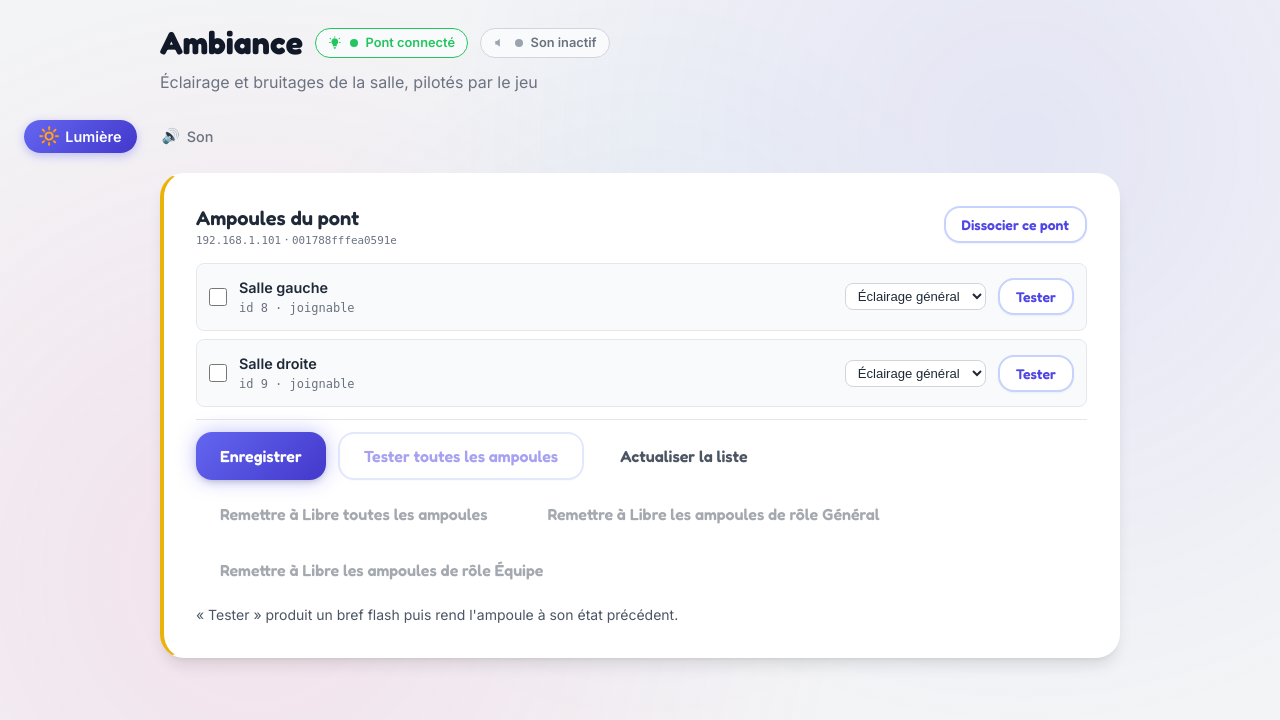
Scenario: AmbiancePage — P2b : allumage/extinction immédiat › pont injoignable : toast d'erreur affiché, mais la case reste basculée (§2.3 — la config ne dépend pas du pont)
Check: the text "Salle gauche" is shown, box [239, 279, 328, 296]
Click the checkbox labelled "Salle gauche". click: (218, 297)
box: [209, 288, 227, 306]
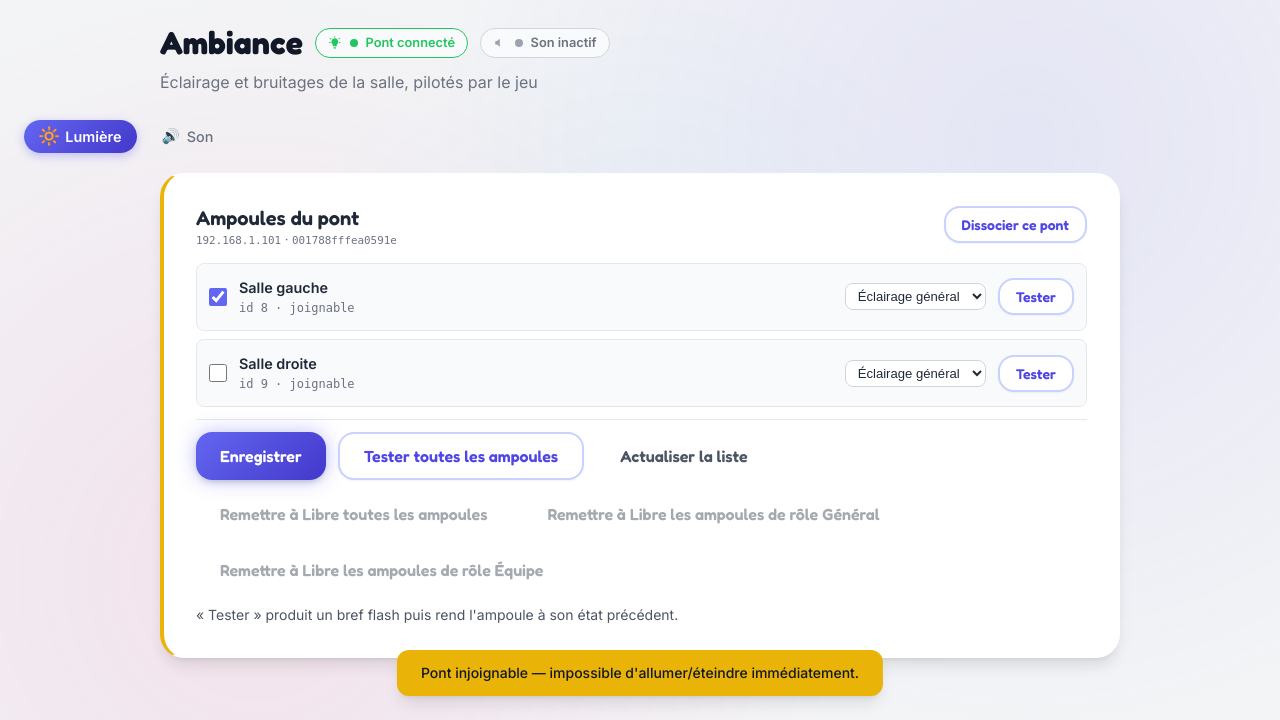
Check: the checkbox labelled "Salle gauche" is checked, box [209, 288, 227, 306]
Check: the text "Pont injoignable — impossible d'allumer/éteindre immédiatement." is shown, box [397, 650, 883, 696]
